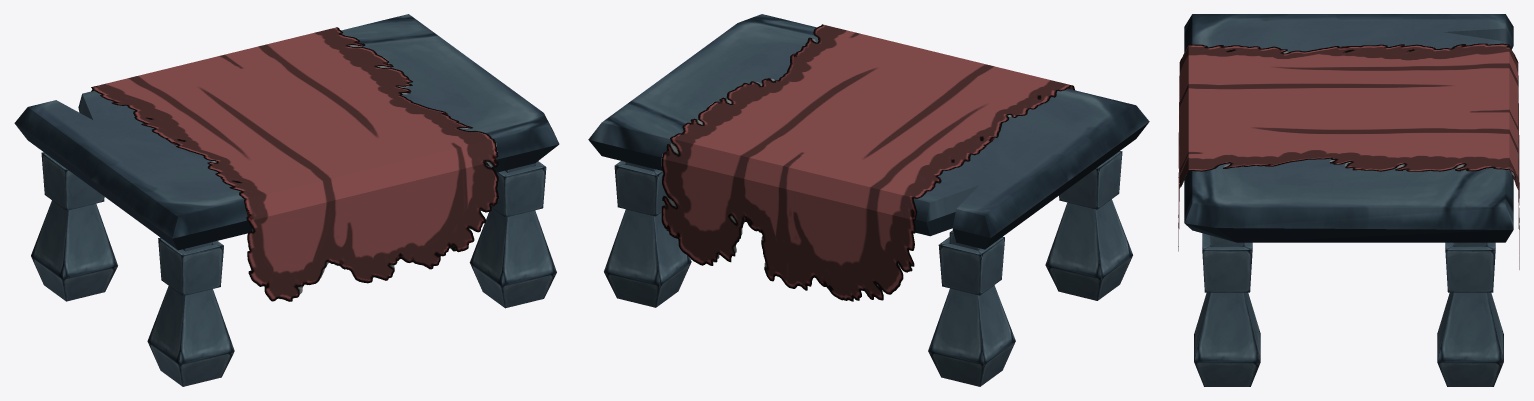
The model's file is Stonetable_S.fbx.
The picture shows the model from 3 angles, left to right: view 1: azimuth 30°, elevation 25°; view 2: azimuth 150°, elevation 25°; view 3: azimuth 270°, elevation 25°; orthographic projection. The views are drawn at different scales.
Visible parts, largest first — view 1: Stonetable_S; view 2: Stonetable_S; view 3: Stonetable_S.
Boxes of the visible parts, x1,y1,x2,y2 form: Stonetable_S: [14, 14, 559, 386]; Stonetable_S: [588, 14, 1149, 386]; Stonetable_S: [1178, 14, 1519, 386].
Size of the model in its own units: 7.23 by 3.09 by 5.12.
